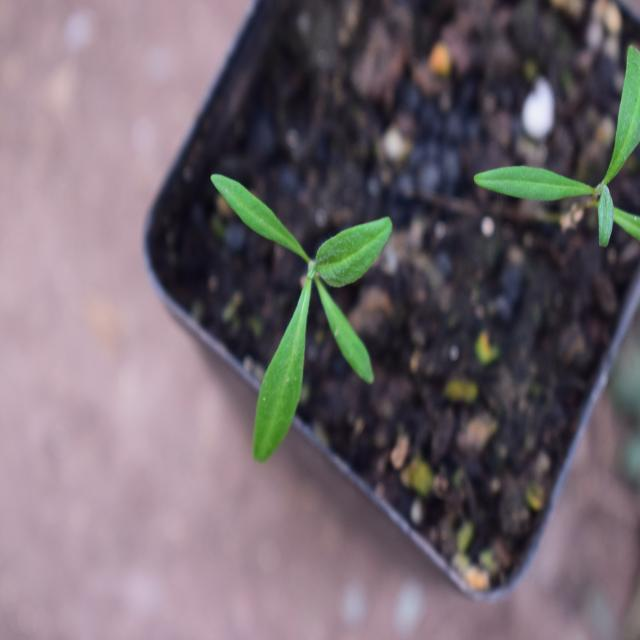white_smart_weed: (204, 148, 428, 490)
